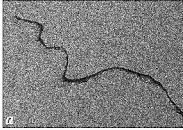anomaly: (15, 17, 183, 113)
